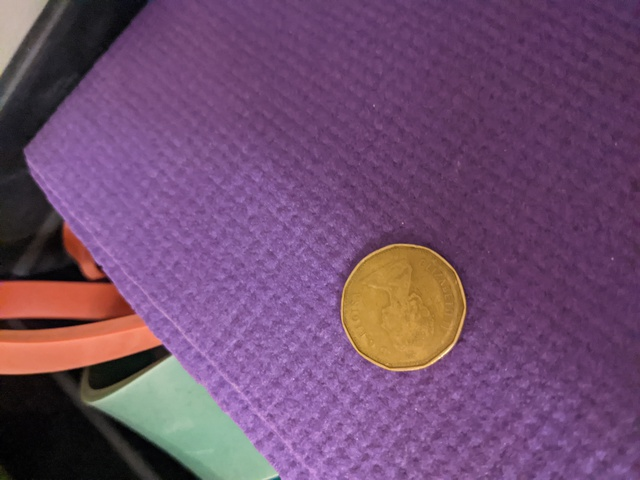loonie: (319, 223, 476, 390)
